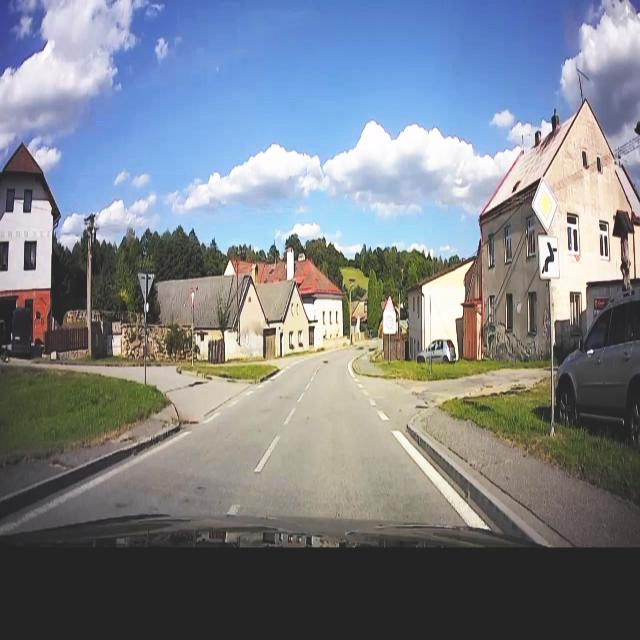Priority road: (530, 174, 559, 231)
